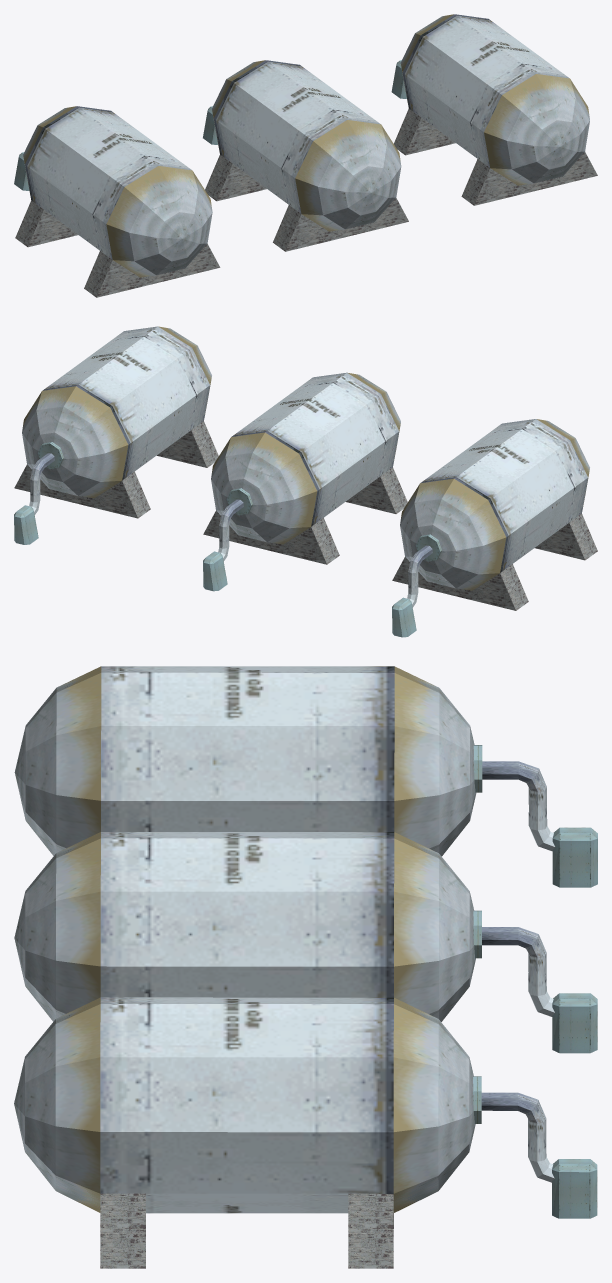
File: apfuel2_sfse.obj
3 views of the same model, one above another, from view 1: azimuth 30°, elevation 25°; view 2: azimuth 150°, elevation 25°; view 3: azimuth 270°, elevation 25° (orthographic). The views are drawn at different scales.
Parts seen in each view (by area): view 1: apfuel2_SFSe; view 2: apfuel2_SFSe; view 3: apfuel2_SFSe.
Part boxes in pixels (x1,y1,x2,y2): apfuel2_SFSe: (14, 14, 597, 297); apfuel2_SFSe: (14, 326, 597, 637); apfuel2_SFSe: (14, 666, 597, 1268).
Bounding box in the file's own units: 39.85 × 8.89 × 22.35.
4 materials, 4 textured.
